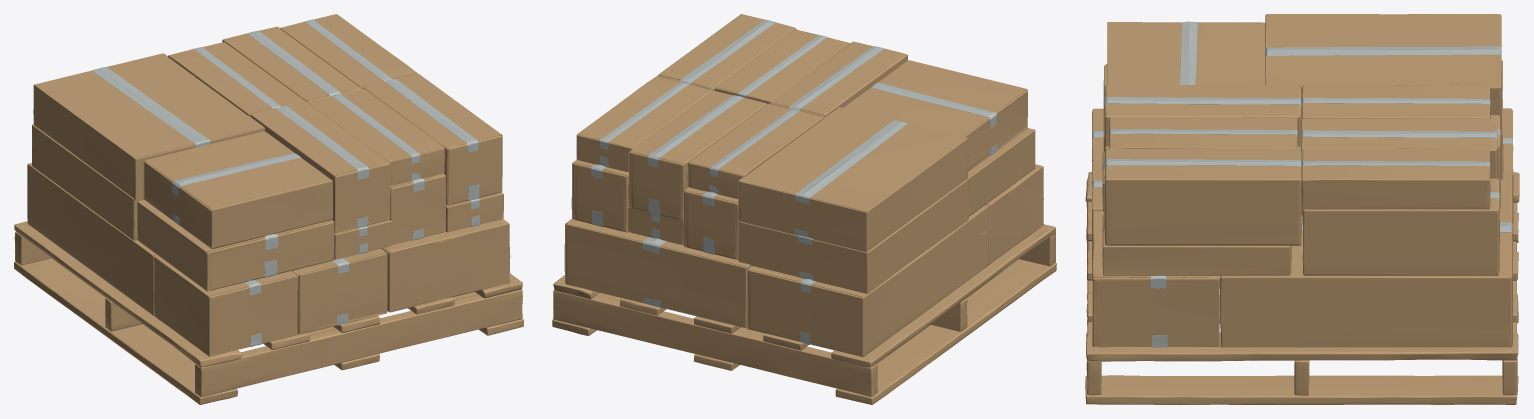
Rendered from pallet_assembly_a02.glb.
3 renders of one model, left to right at view 1: azimuth 30°, elevation 25°; view 2: azimuth 150°, elevation 25°; view 3: azimuth 270°, elevation 25°, orthographic. The views are drawn at different scales.
Size of the model in its own units: 0.9014 by 0.5051 by 0.9035.
